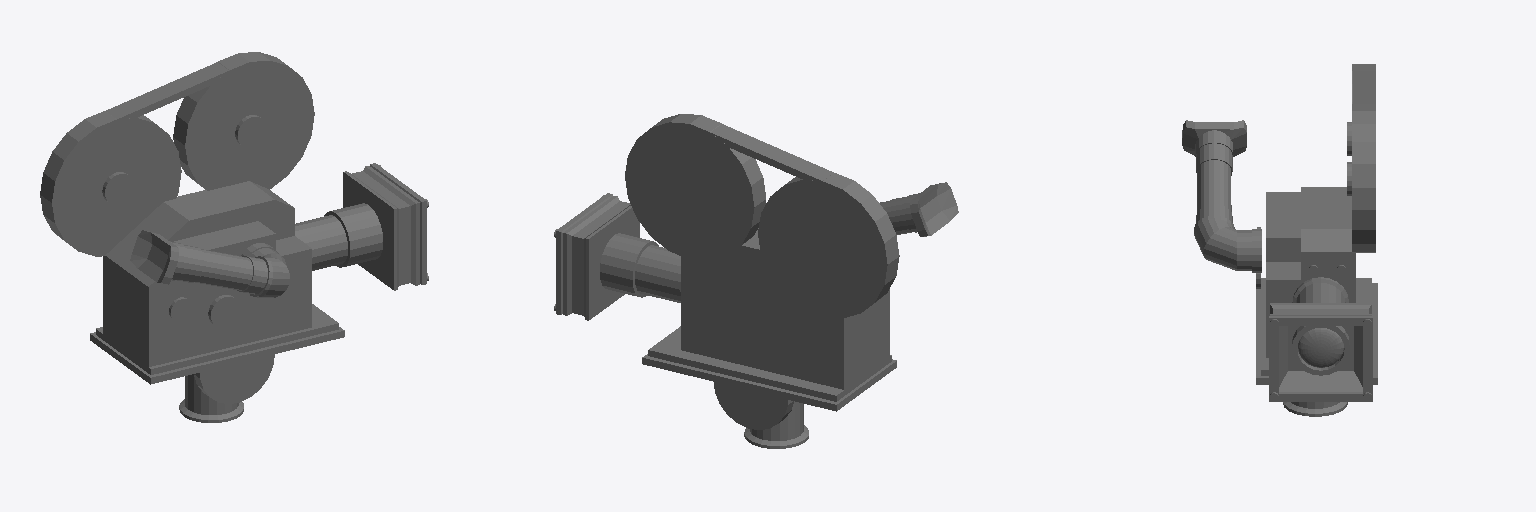
Rendered from Camera.obj.
3 renders of one model, left to right at view 1: azimuth 30°, elevation 25°; view 2: azimuth 150°, elevation 25°; view 3: azimuth 270°, elevation 25°, orthographic.
Visible parts, largest first — view 1: pCylinder15_Mesh.022, pCylinder14_Mesh.021, camBody1_Mesh.001, camBody2_Mesh, lensHousing_Mesh.008, dialFront1_Mesh.025, lensBarrel_Mesh.002, pCylinder18_Mesh.027, pCube6_Mesh.026, pCube5_Mesh.023, plate1_Mesh.015, pCube7_Mesh.024 (+4 smaller); view 2: camBody2_Mesh, pCylinder14_Mesh.021, pCylinder15_Mesh.022, lensHousing_Mesh.008, lensBarrel_Mesh.002, plate1_Mesh.015, pCube6_Mesh.026, pCylinder19_Mesh.028, pCube5_Mesh.023, pCube7_Mesh.024, pCylinder21_Mesh.030, camBody1_Mesh.001 (+1 smaller); view 3: lensHousing_Mesh.008, dialFront1_Mesh.025, camBody2_Mesh, camBody1_Mesh.001, pCylinder15_Mesh.022, lens_Mesh.009, pCube7_Mesh.024, lensBarrel_Mesh.002, pCube6_Mesh.026, lensRing_Mesh.010, plate1_Mesh.015, pCylinder21_Mesh.030 (+1 smaller).
Part boxes in pixels (x1,y1,x2,y2): pCylinder15_Mesh.022: (173,52,314,190); pCylinder14_Mesh.021: (40,111,181,256); camBody1_Mesh.001: (131,221,311,369); camBody2_Mesh: (103,181,294,356); lensHousing_Mesh.008: (343,163,426,290); dialFront1_Mesh.025: (170,241,289,297); lensBarrel_Mesh.002: (295,203,382,270); pCylinder18_Mesh.027: (194,354,274,403); pCube6_Mesh.026: (90,327,344,384); pCube5_Mesh.023: (106,62,228,118); plate1_Mesh.015: (96,304,338,374); pCube7_Mesh.024: (130,230,178,284); camBody2_Mesh: (681,228,871,392); pCylinder14_Mesh.021: (758,173,899,318); pCylinder15_Mesh.022: (625,114,765,260); lensHousing_Mesh.008: (556,193,639,320); lensBarrel_Mesh.002: (600,233,680,302); plate1_Mesh.015: (648,326,891,401); pCube6_Mesh.026: (642,354,896,411); pCylinder19_Mesh.028: (714,382,793,429); pCube5_Mesh.023: (710,124,833,180); pCube7_Mesh.024: (910,182,958,236); pCylinder21_Mesh.030: (744,401,808,448); camBody1_Mesh.001: (872,289,889,372); lensHousing_Mesh.008: (1269,303,1372,401); dialFront1_Mesh.025: (1194,130,1261,272); camBody2_Mesh: (1301,187,1355,302); camBody1_Mesh.001: (1266,192,1300,357); pCylinder15_Mesh.022: (1352,104,1375,252); lens_Mesh.009: (1298,328,1343,367); pCube7_Mesh.024: (1182,120,1246,156); lensBarrel_Mesh.002: (1292,277,1348,302); pCube6_Mesh.026: (1256,283,1377,384); lensRing_Mesh.010: (1292,326,1349,375); plate1_Mesh.015: (1261,278,1371,375); pCylinder21_Mesh.030: (1283,402,1347,416).
Bounding box in the file's own units: 2.86 × 2.61 × 1.44.